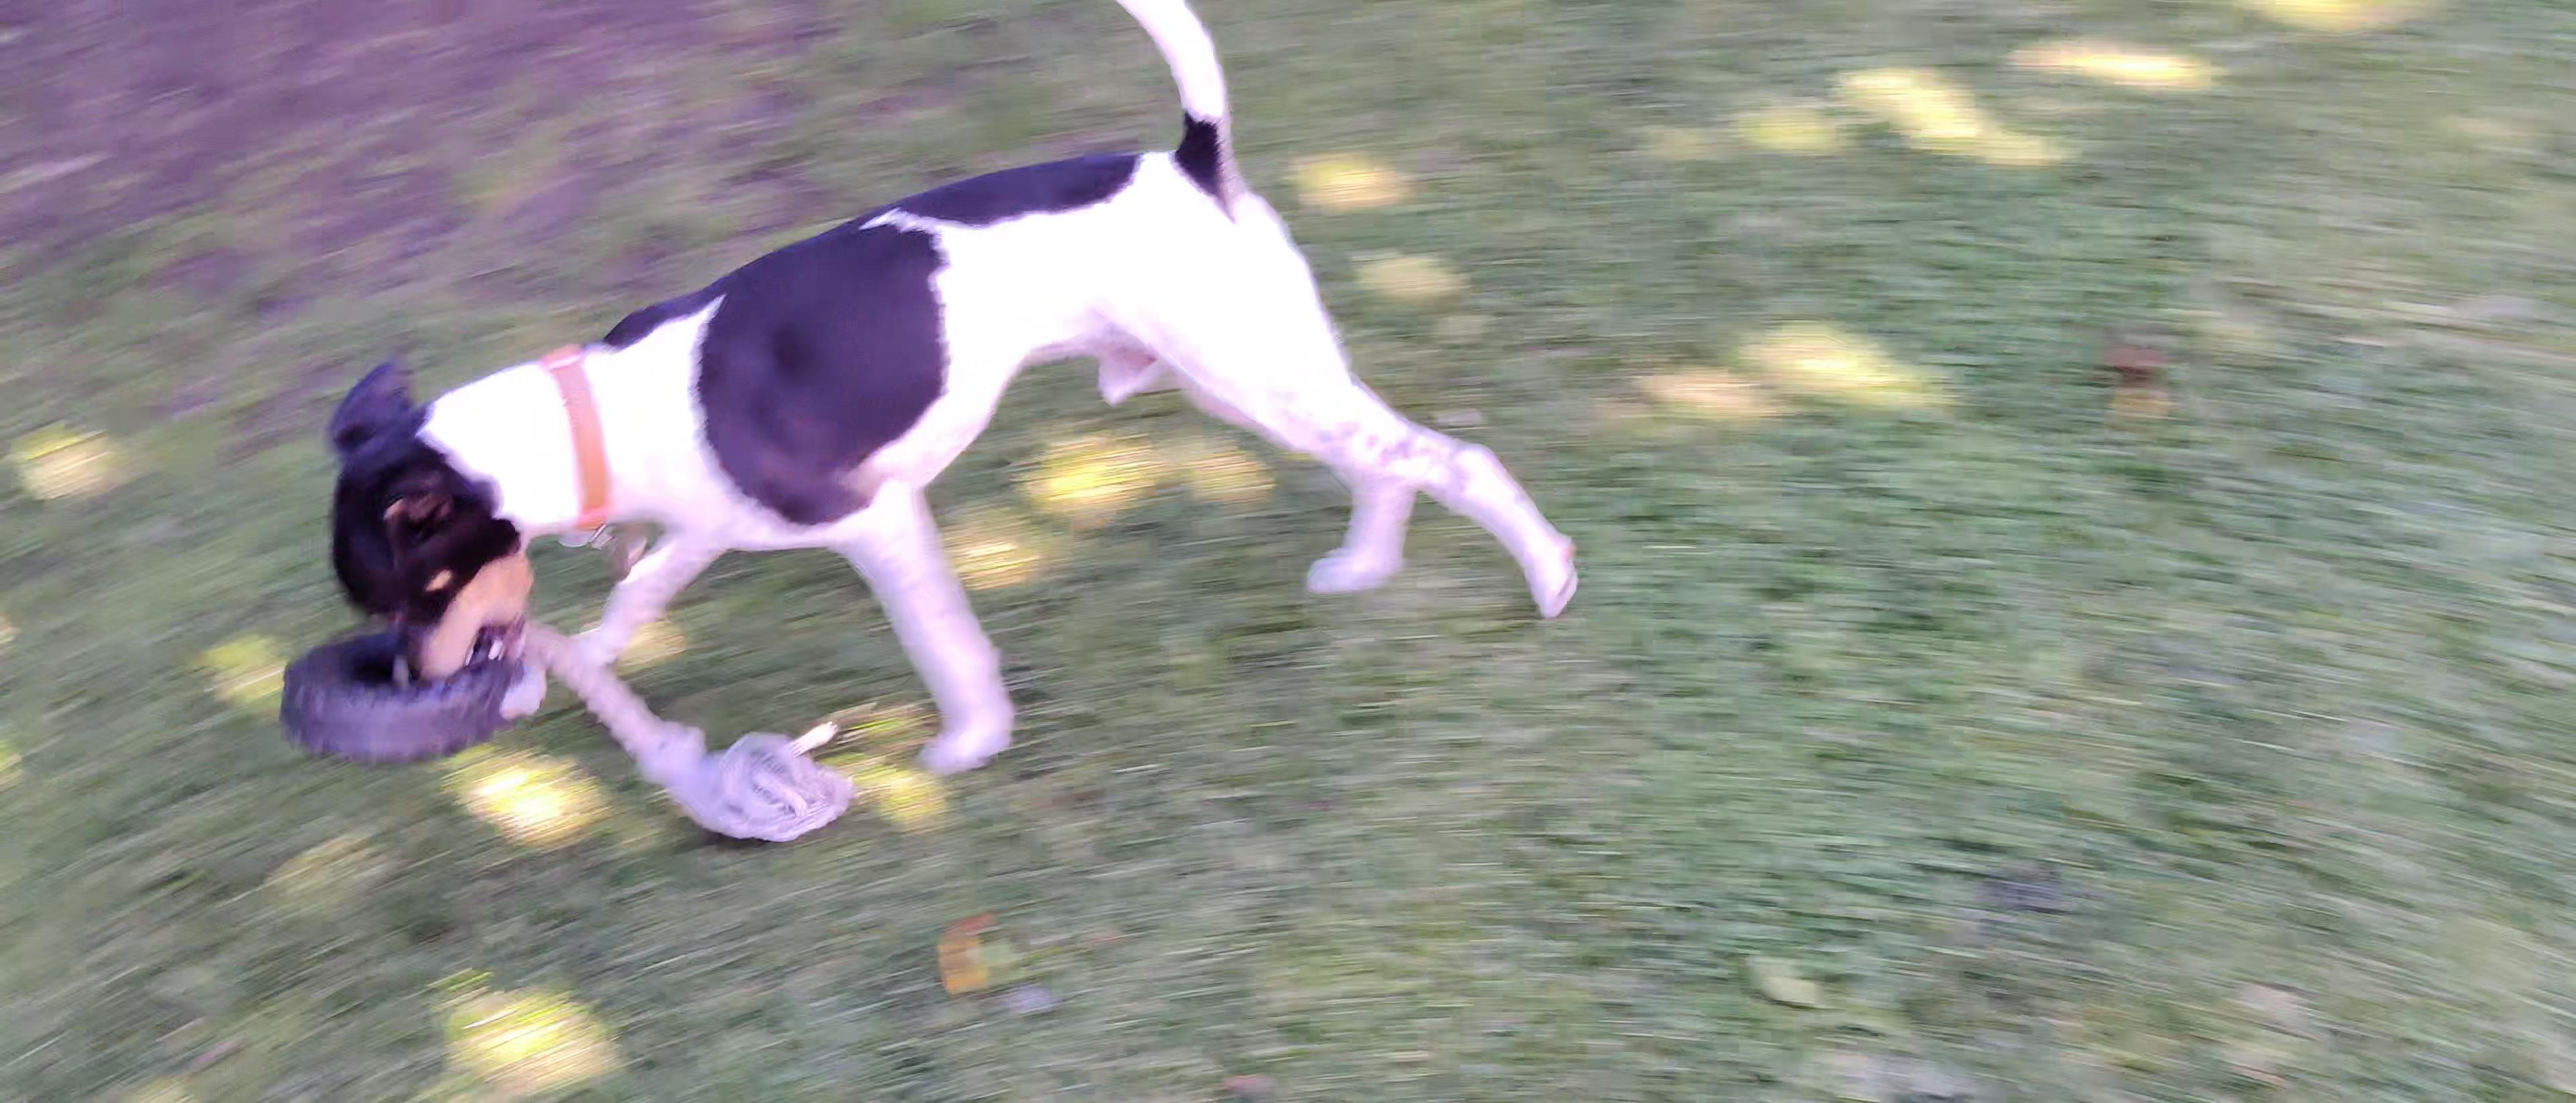Dog: (304, 0, 1587, 787)
